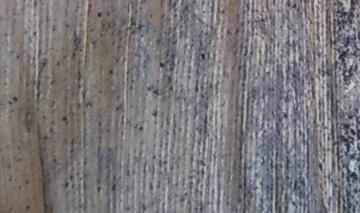tarspot: (341, 62, 354, 82), (338, 134, 350, 143), (62, 177, 70, 190), (348, 152, 358, 162), (343, 36, 351, 48), (114, 103, 124, 112), (317, 162, 325, 173), (202, 113, 209, 125), (338, 51, 347, 60), (152, 87, 160, 97), (49, 99, 57, 109), (343, 142, 350, 153), (353, 63, 360, 74), (95, 185, 103, 194), (348, 128, 356, 137), (348, 9, 356, 18), (95, 10, 102, 20), (199, 51, 206, 61), (349, 1, 356, 11), (140, 203, 147, 213), (349, 171, 359, 178), (166, 74, 172, 85), (342, 122, 350, 130), (158, 61, 165, 70), (151, 109, 158, 118), (54, 59, 61, 68), (70, 50, 77, 59), (84, 102, 94, 108), (355, 129, 360, 141), (107, 68, 114, 76), (61, 115, 68, 123), (137, 125, 144, 133), (110, 183, 117, 191), (236, 183, 243, 191), (290, 2, 297, 10), (1, 67, 8, 75), (114, 93, 121, 101), (346, 113, 353, 121), (344, 189, 351, 197), (341, 10, 347, 19), (356, 29, 360, 42), (325, 69, 330, 79), (127, 84, 134, 91), (68, 148, 75, 155), (124, 206, 131, 213), (154, 38, 161, 45), (203, 30, 210, 37), (282, 111, 288, 119), (290, 72, 298, 78), (32, 1, 37, 10), (331, 38, 336, 47), (335, 1, 344, 6), (356, 141, 360, 152), (11, 95, 18, 101), (113, 57, 119, 64), (167, 85, 173, 92), (31, 30, 38, 36), (248, 49, 254, 56), (24, 81, 30, 88), (260, 16, 266, 23), (148, 12, 153, 20), (125, 68, 130, 76), (48, 126, 53, 134), (351, 205, 356, 213), (15, 53, 21, 59), (64, 23, 70, 29), (24, 204, 30, 210), (77, 47, 83, 53), (286, 1, 291, 8), (16, 184, 21, 191), (52, 157, 57, 164), (271, 1, 276, 8), (355, 157, 360, 164), (345, 196, 350, 203), (353, 187, 357, 195), (97, 121, 102, 127), (97, 88, 102, 94), (146, 86, 151, 91)
